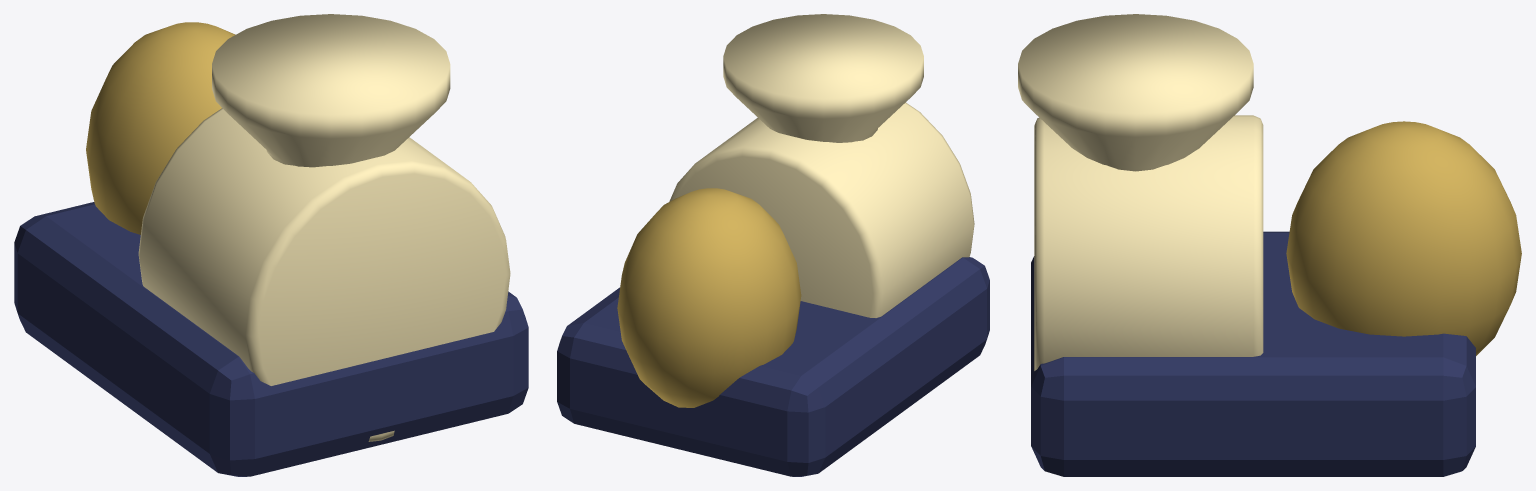
File: ACC_TH_RAILWAY_Primary.fbx
3 renders of one model, left to right at view 1: azimuth 30°, elevation 25°; view 2: azimuth 150°, elevation 25°; view 3: azimuth 270°, elevation 25°, orthographic. The views are drawn at different scales.
Parts seen in each view (by area): view 1: ACC_TH_RAILWAY_Primary; view 2: ACC_TH_RAILWAY_Primary; view 3: ACC_TH_RAILWAY_Primary.
Part boxes in pixels (<box>): ACC_TH_RAILWAY_Primary: <box>14,14,528,476</box>; ACC_TH_RAILWAY_Primary: <box>557,14,989,476</box>; ACC_TH_RAILWAY_Primary: <box>1018,14,1521,476</box>.
Size of the model in its own units: 55 by 59 by 77.
